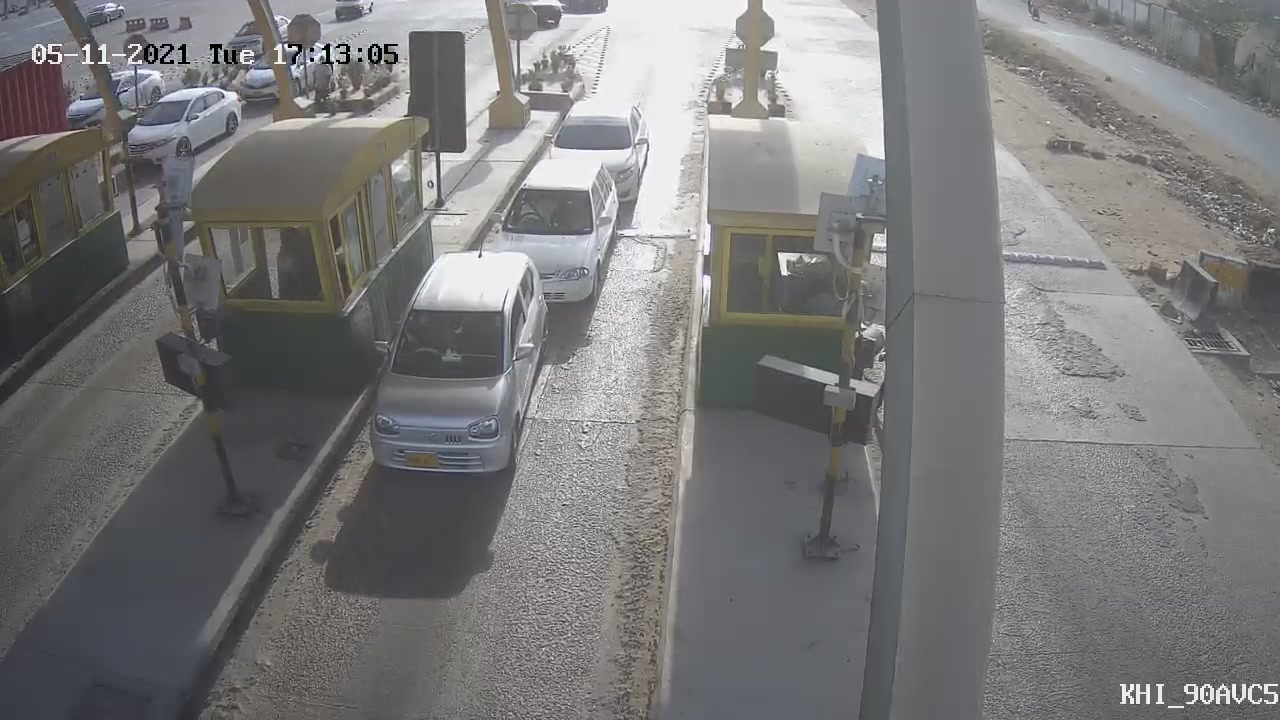F1: (343, 231, 582, 499), (472, 146, 635, 326)
